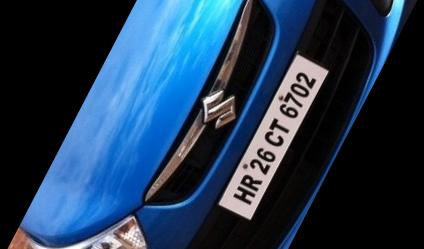plate: (200, 36, 348, 232)
